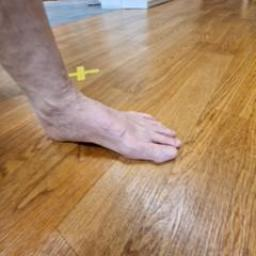Medial View -Left Foot-: (14, 65, 196, 179)
